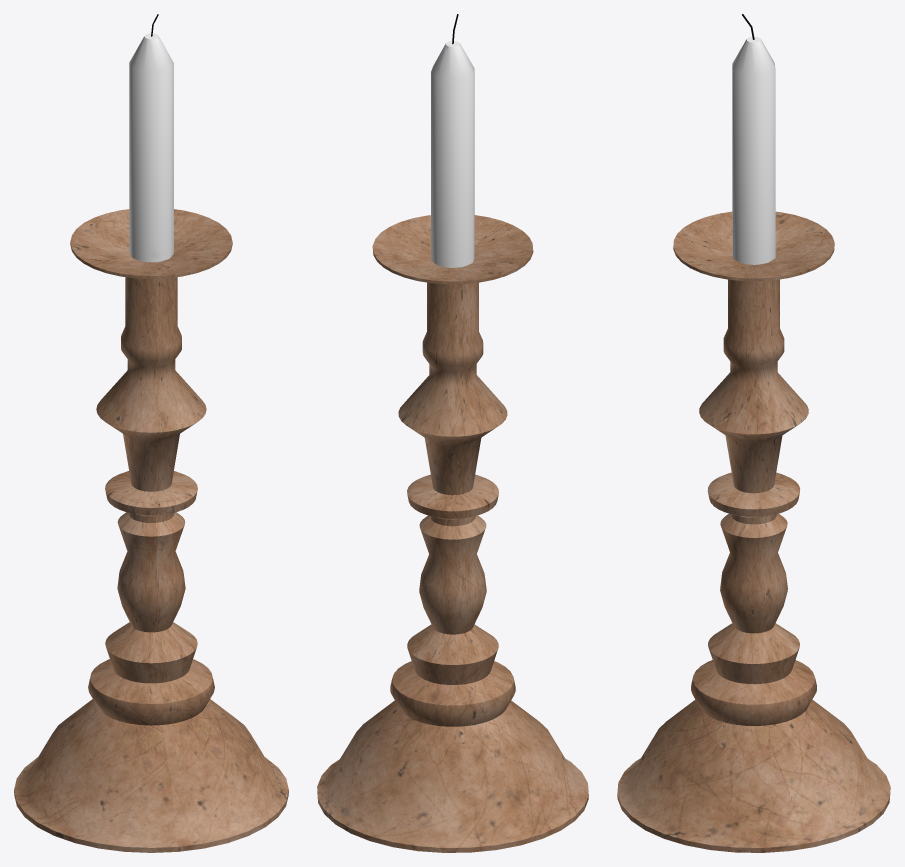
Rendered from candlestick1.fbx.
3 views of the same model, side by side, from view 1: azimuth 30°, elevation 25°; view 2: azimuth 150°, elevation 25°; view 3: azimuth 270°, elevation 25° (orthographic).
Visible parts, largest first — view 1: candlestick1; view 2: candlestick1; view 3: candlestick1.
Boxes of the visible parts, x1,y1,x2,y2 form: candlestick1: [14, 14, 288, 852]; candlestick1: [317, 14, 588, 852]; candlestick1: [617, 14, 890, 852].
Size of the model in its own units: 61.14 by 193 by 61.14.
